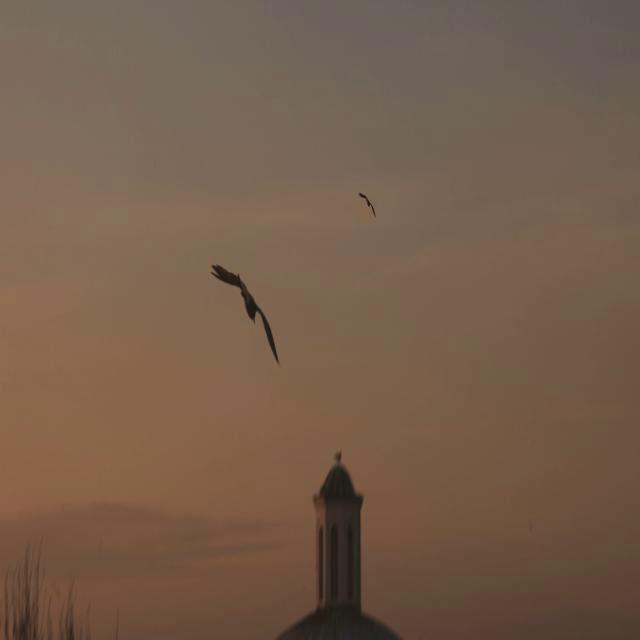bird: (210, 264, 285, 368), (358, 192, 378, 220), (332, 447, 346, 466)
